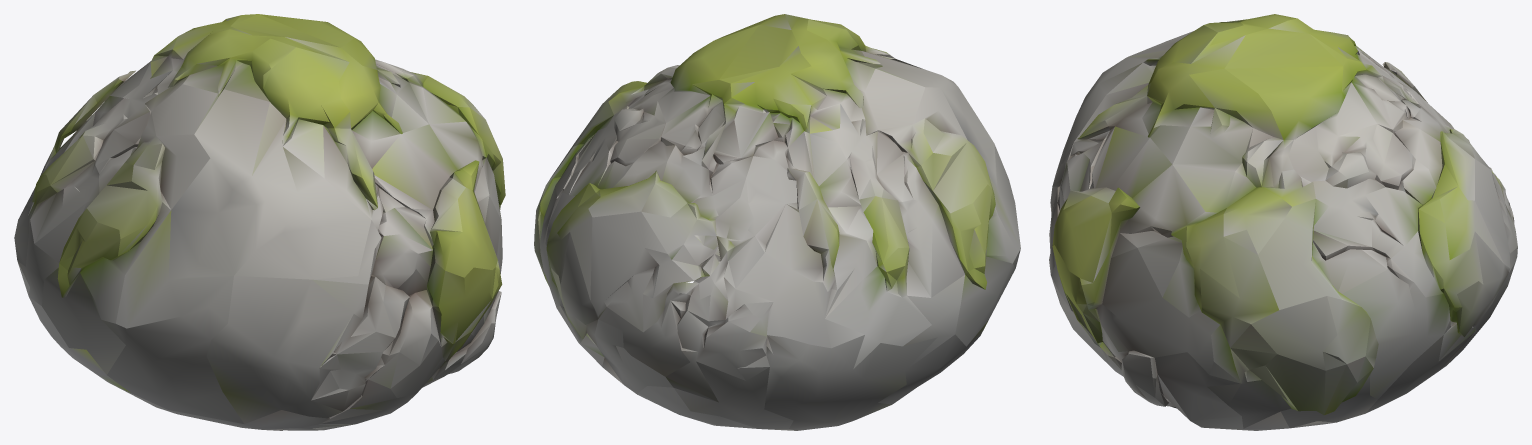
File: mossy_rock.glb
3 views of the same model, side by side, from view 1: azimuth 30°, elevation 25°; view 2: azimuth 150°, elevation 25°; view 3: azimuth 270°, elevation 25° (orthographic). The views are drawn at different scales.
Visible parts, largest first — view 1: geometry_0; view 2: geometry_0; view 3: geometry_0.
Part boxes in pixels (x1,y1,x2,y2): geometry_0: (14, 14, 505, 430); geometry_0: (534, 14, 1020, 430); geometry_0: (1049, 14, 1517, 430).
Bounding box in the file's own units: 1.5 × 1.21 × 1.47.
